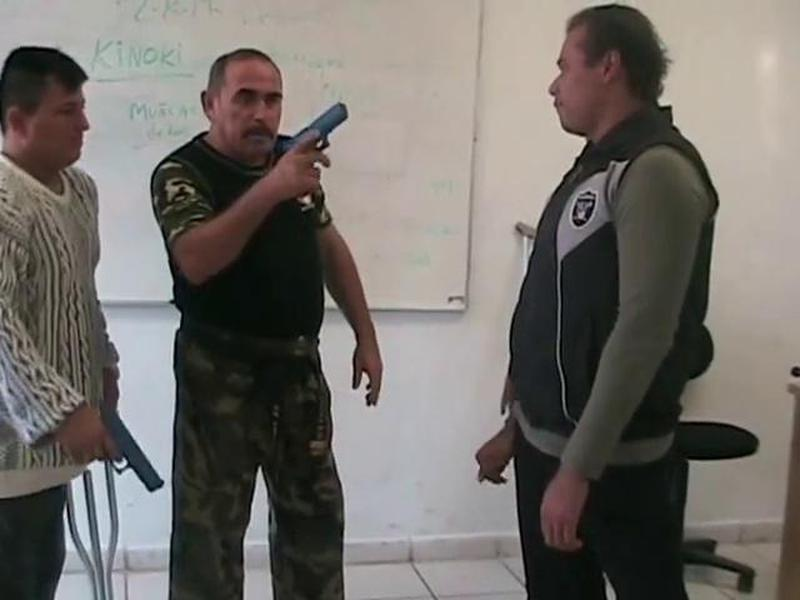Pistola: (83, 392, 170, 509), (279, 98, 356, 213)
